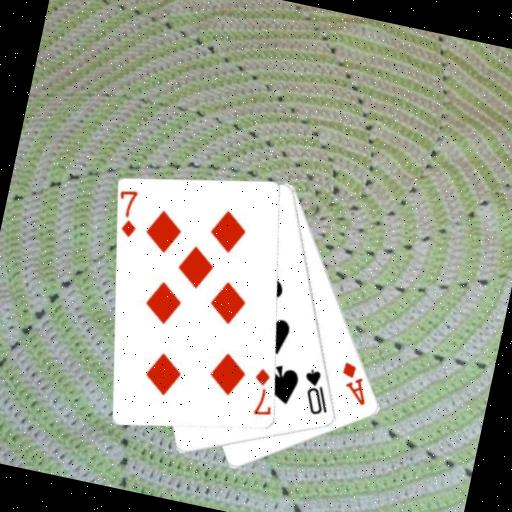10S: (294, 364, 337, 419)
7D: (245, 363, 280, 419), (111, 185, 145, 241)
AD: (333, 357, 375, 408)
